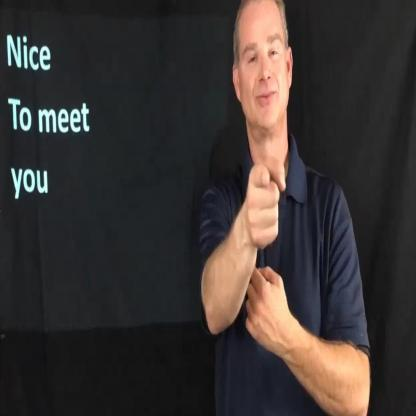NiceToMeetYou: (227, 121, 297, 363)
